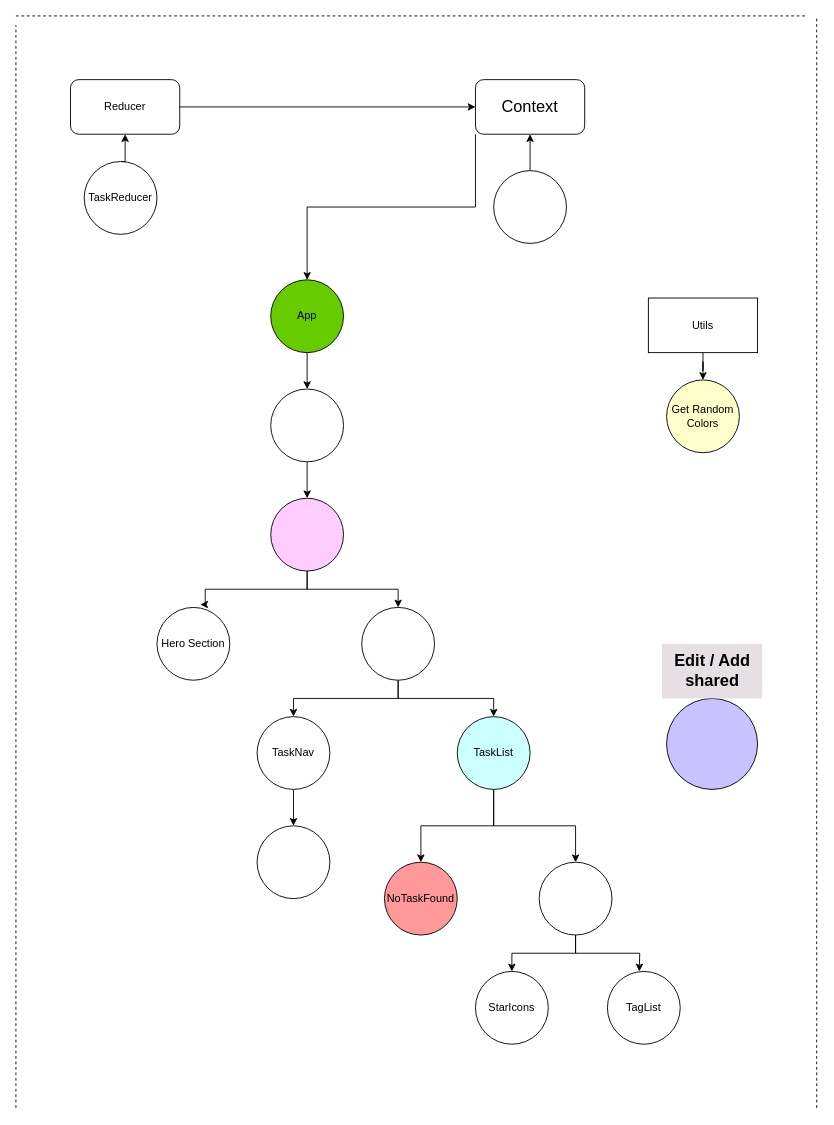
Image size: 834x1125. Some labels were removed from this diagram. The shapes that lost their labels are listed below. From the top down, each one's centre as x and y in pixels, then its label:
point 529,206: TaskContext
point 307,425: Page
point 307,534: Layout
point 398,643: TaskBoard
point 712,743: TaskModal
point 293,862: SearchTask
point 575,898: TaskItem
